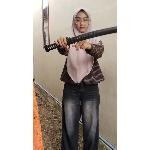Pedang: (45, 26, 117, 54)
